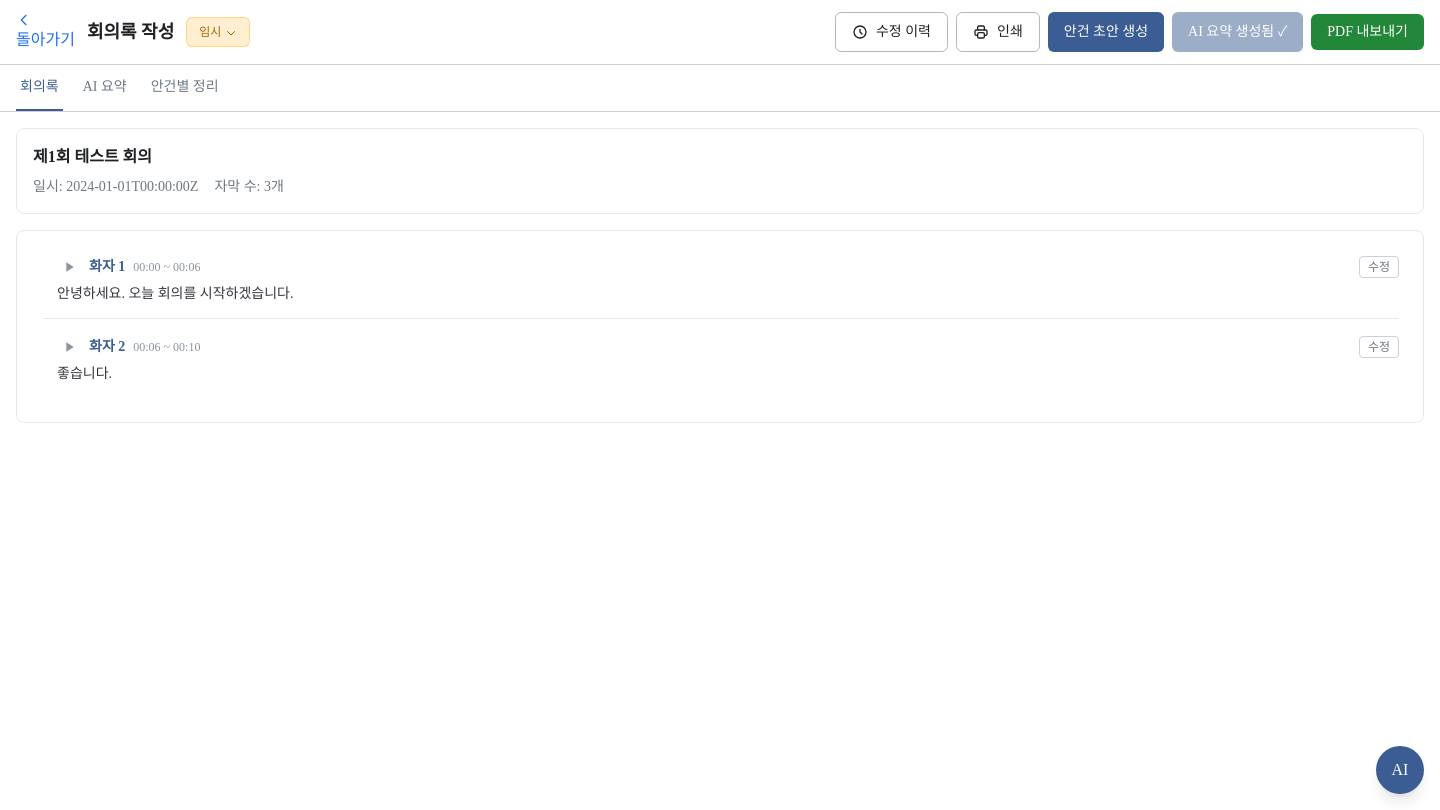
Test: MinutesPage › switches to agenda tab and shows agenda items
The width and height of the screenshot is (1440, 810).
Check: the element with test id "minutes-page" is shown, box [0,0,1439,438]
Step 1. Click the button with test id "tab-agenda" → (185, 88), box [147,65,223,111]
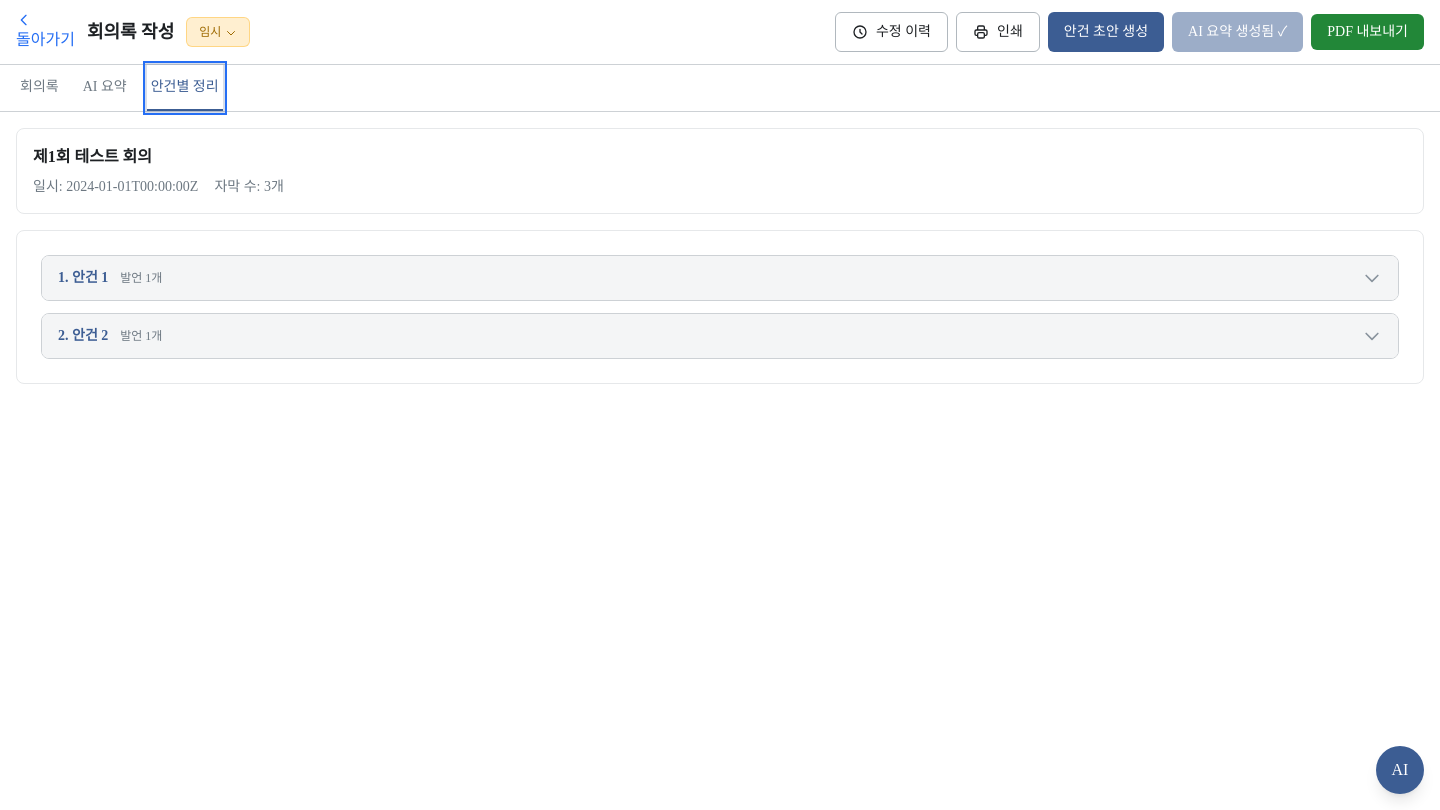
Check: the element with test id "agenda-content" is shown, box [16,230,1424,384]
Check: the text "1. 안건 1" is shown, box [58,268,108,288]
Check: the text "2. 안건 2" is shown, box [58,326,108,346]
